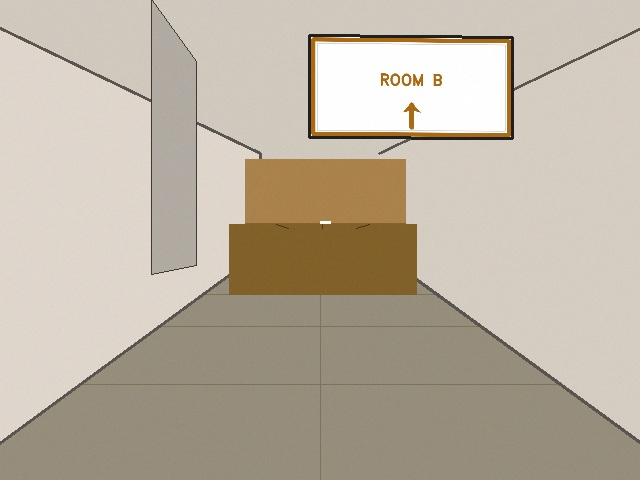box: (245, 159, 405, 290)
directional_sign: (309, 35, 512, 138)
pallet: (229, 224, 416, 294)
